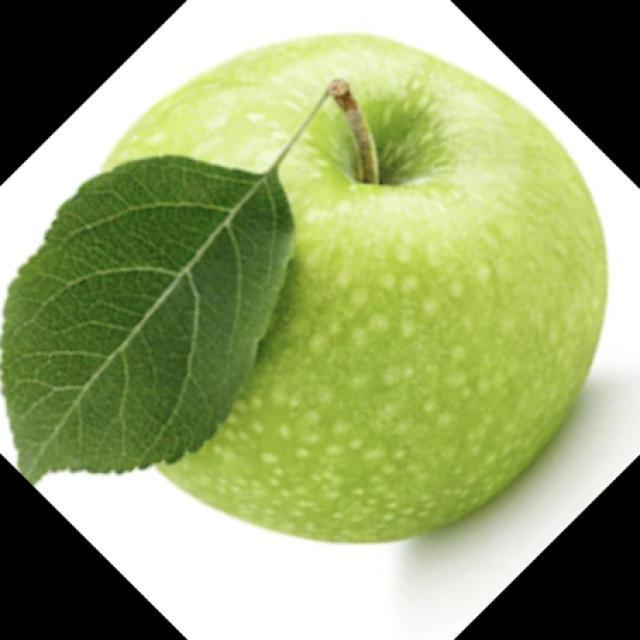Apple: (99, 31, 609, 545)
